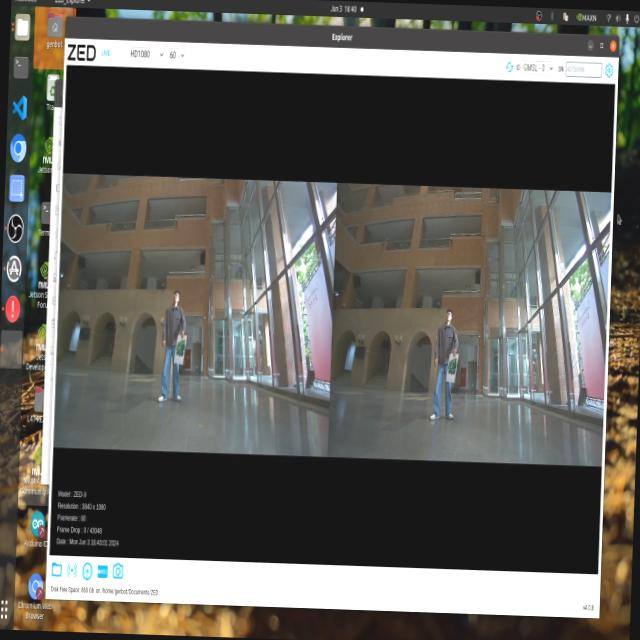green: (446, 358, 461, 382), (175, 332, 188, 356)
